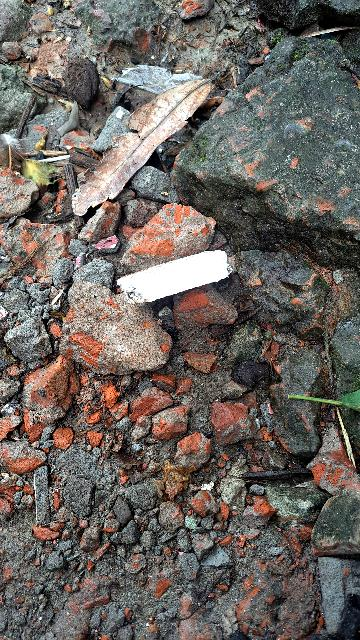cocksheet: (112, 232, 270, 332)
